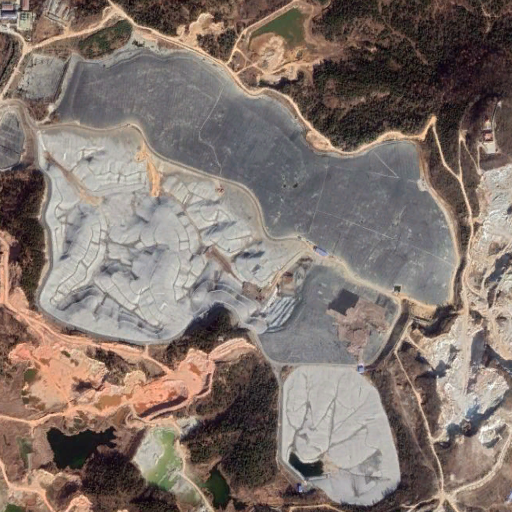lf: (36, 46, 460, 507)
